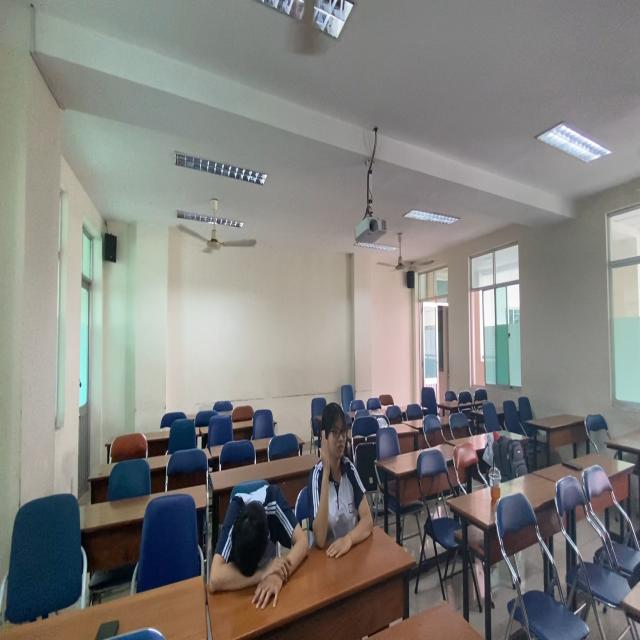raise_hand: (308, 402, 376, 578)
sleep: (200, 473, 306, 614)
